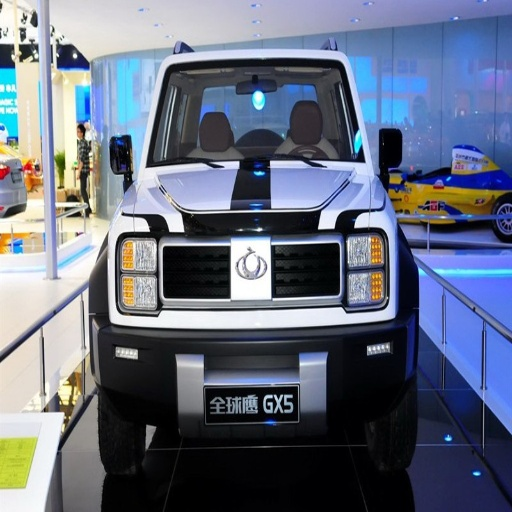front_bumper: (100, 203, 414, 480)
hood: (133, 162, 372, 212)
